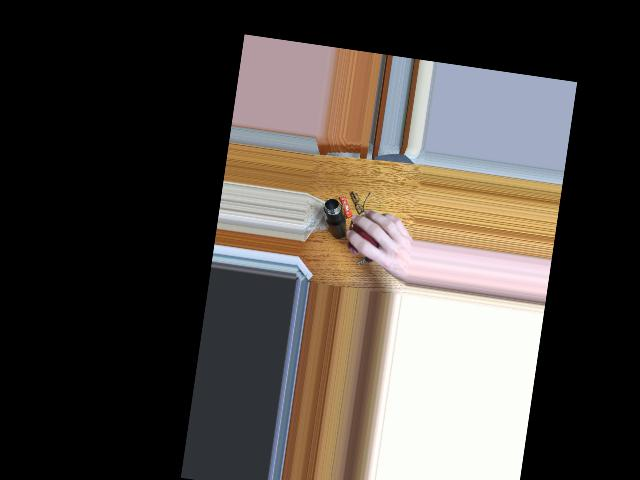onion: (354, 214, 390, 257)
